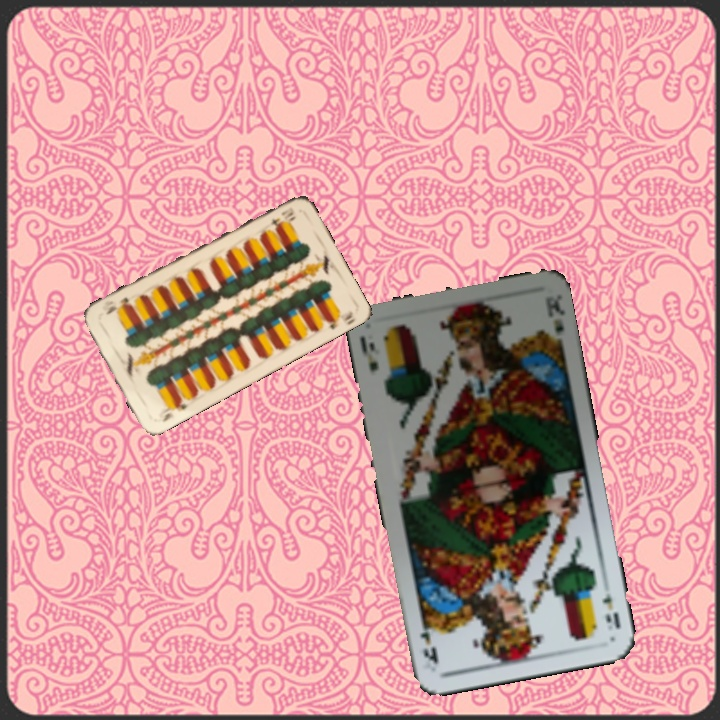E10: (157, 395, 190, 425), (266, 203, 297, 228)
EK: (355, 332, 382, 375), (597, 589, 623, 631)
